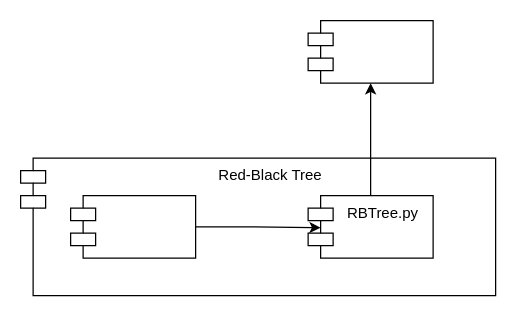
This 516x316 diagram has some shape labels left out. Each missing label, with the centre of its shape:
main.py: (370,51)
Node.py: (132,226)
